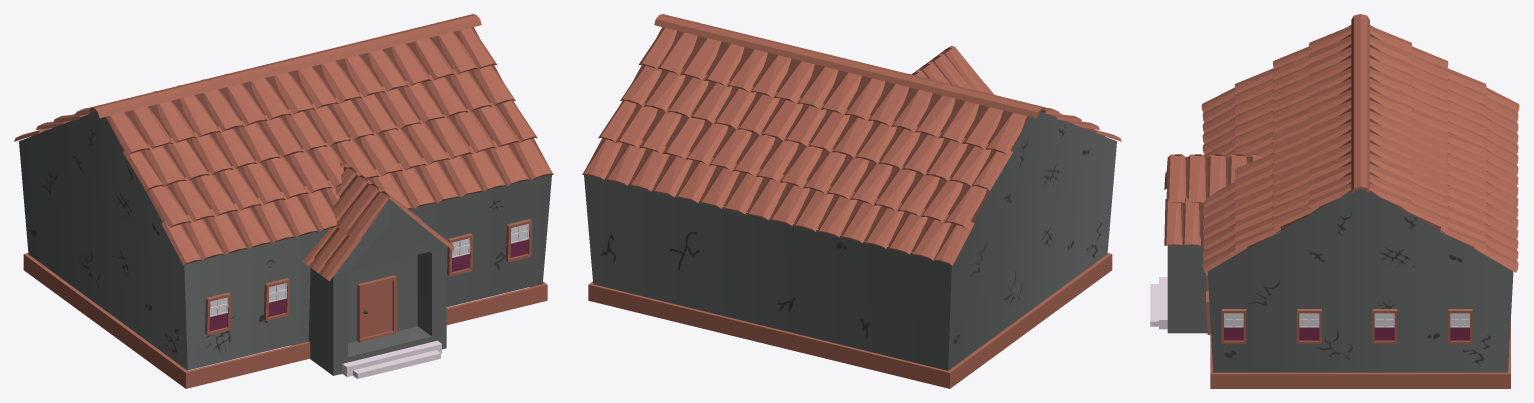
The model's file is farmhouse.fbx.
3 views of the same model, side by side, from view 1: azimuth 30°, elevation 25°; view 2: azimuth 150°, elevation 25°; view 3: azimuth 270°, elevation 25° (orthographic). The views are drawn at different scales.
Parts seen in each view (by area): view 1: roof top; view 2: roof top; view 3: roof top.
Boxes of the visible parts, bbox=[...] form: roof top: bbox=[14, 14, 553, 388]; roof top: bbox=[582, 14, 1121, 388]; roof top: bbox=[1150, 14, 1519, 388].
Bounding box in the file's own units: 1808 × 1014 × 1635.
